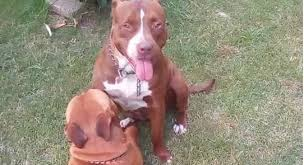Perro Pitbull: (106, 1, 189, 112)
